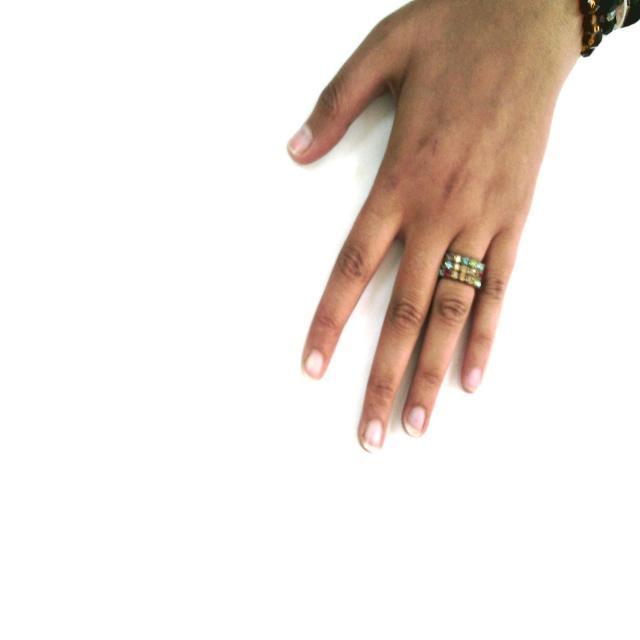Fingernail: (289, 126, 311, 153), (364, 420, 383, 451), (405, 406, 424, 435), (307, 352, 324, 376), (466, 369, 481, 391)
